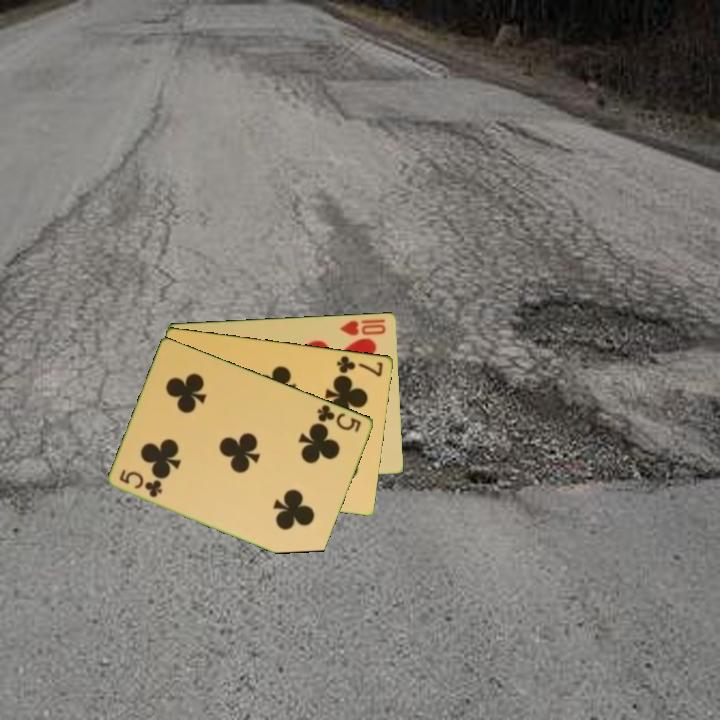10h: (337, 315, 389, 338)
5c: (314, 401, 364, 435), (116, 466, 165, 500)
7c: (334, 352, 386, 379)
